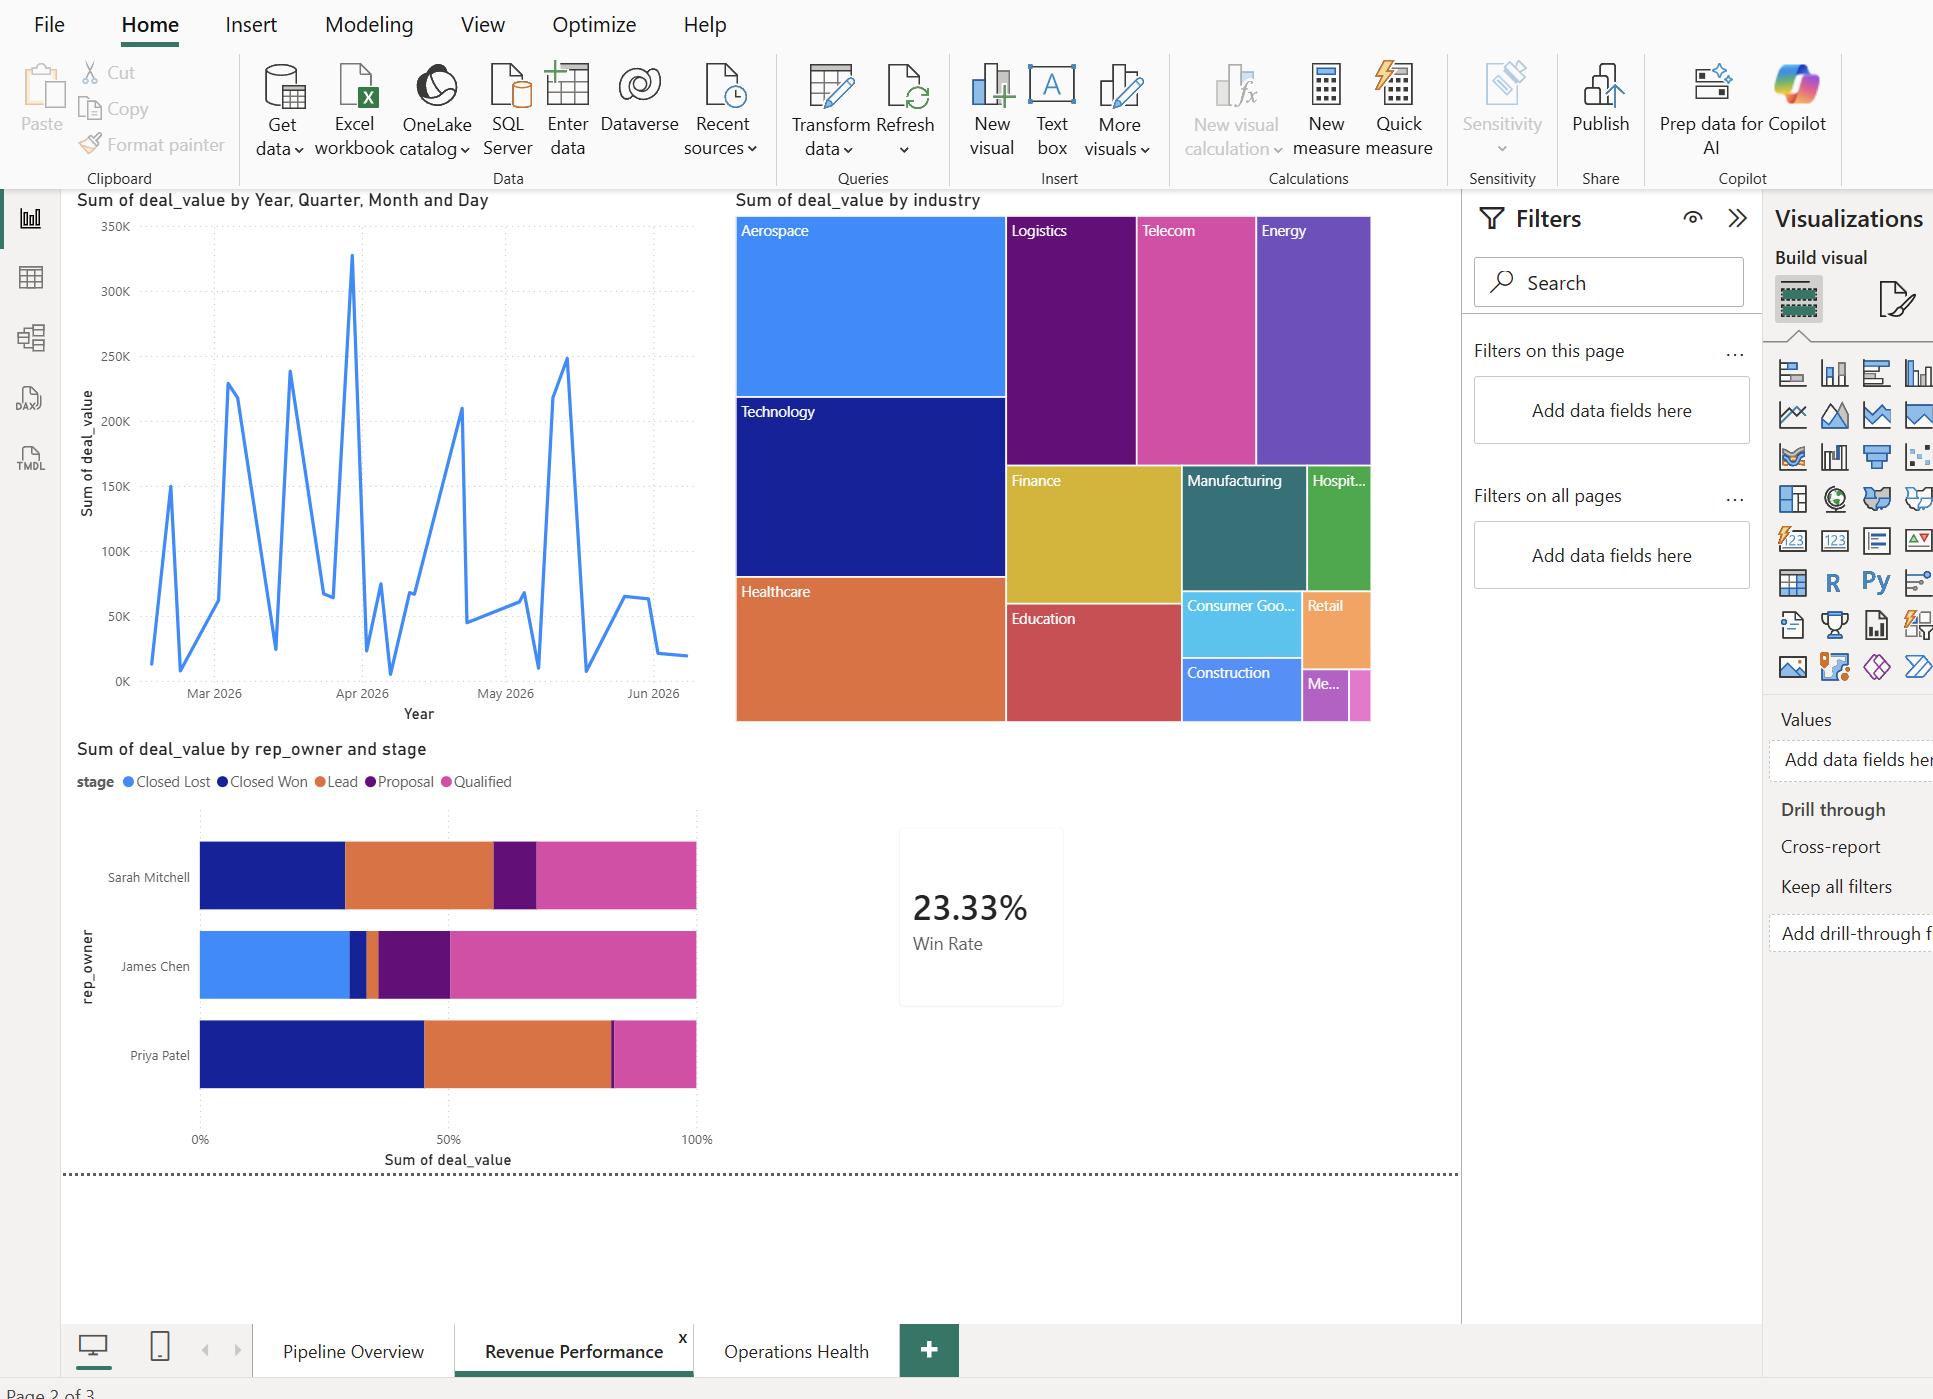

The dashboard page shown, as its layout file describes it:
{"tool":"powerbi","page":{"name":"Revenue Performance","canvas":[1280,900],"ordinal":1},"visuals":[{"type":"lineChart","fields":{"Y":["Sum(powerbi_dataset.deal_value)"],"Category":["powerbi_dataset.created_date.Variation.Date Hierarchy.Year","powerbi_dataset.created_date.Variation.Date Hierarchy.Quarter","powerbi_dataset.created_date.Variation.Date Hierarchy.Month","powerbi_dataset.created_date.Variation.Date Hierarchy.Day"]},"box":[9.6,0,591.1,492.3],"z":0},{"type":"hundredPercentStackedBarChart","fields":{"Y":["Sum(powerbi_dataset.deal_value)"],"Category":["powerbi_dataset.rep_owner"],"Series":["powerbi_dataset.stage"]},"box":[10,502,591,398],"z":1000},{"type":"treemap","fields":{"Group":["powerbi_dataset.industry"],"Values":["Sum(powerbi_dataset.deal_value)"]},"box":[611,0,591,492],"z":2000},{"type":"cardVisual","fields":{"Data":["powerbi_dataset.Win Rate"]},"box":[748.8,566.4,185.1,198.9],"z":3000}]}

Visuals, with their boxes on the page's 1280x900 design canvas (x1, y1, x2, y2). These are canvas units, not pixel positions in the 1933x1399 screenshot, which may show the page scaled, cropped or inside an application window:
lineChart - Sum(powerbi_dataset.deal_value) x powerbi_dataset.created_date.Variation.Date Hierarchy.Year: 10:0:601:492
hundredPercentStackedBarChart - Sum(powerbi_dataset.deal_value) x powerbi_dataset.rep_owner: 10:502:601:900
treemap - powerbi_dataset.industry x Sum(powerbi_dataset.deal_value): 611:0:1202:492
cardVisual - powerbi_dataset.Win Rate: 749:566:934:765
